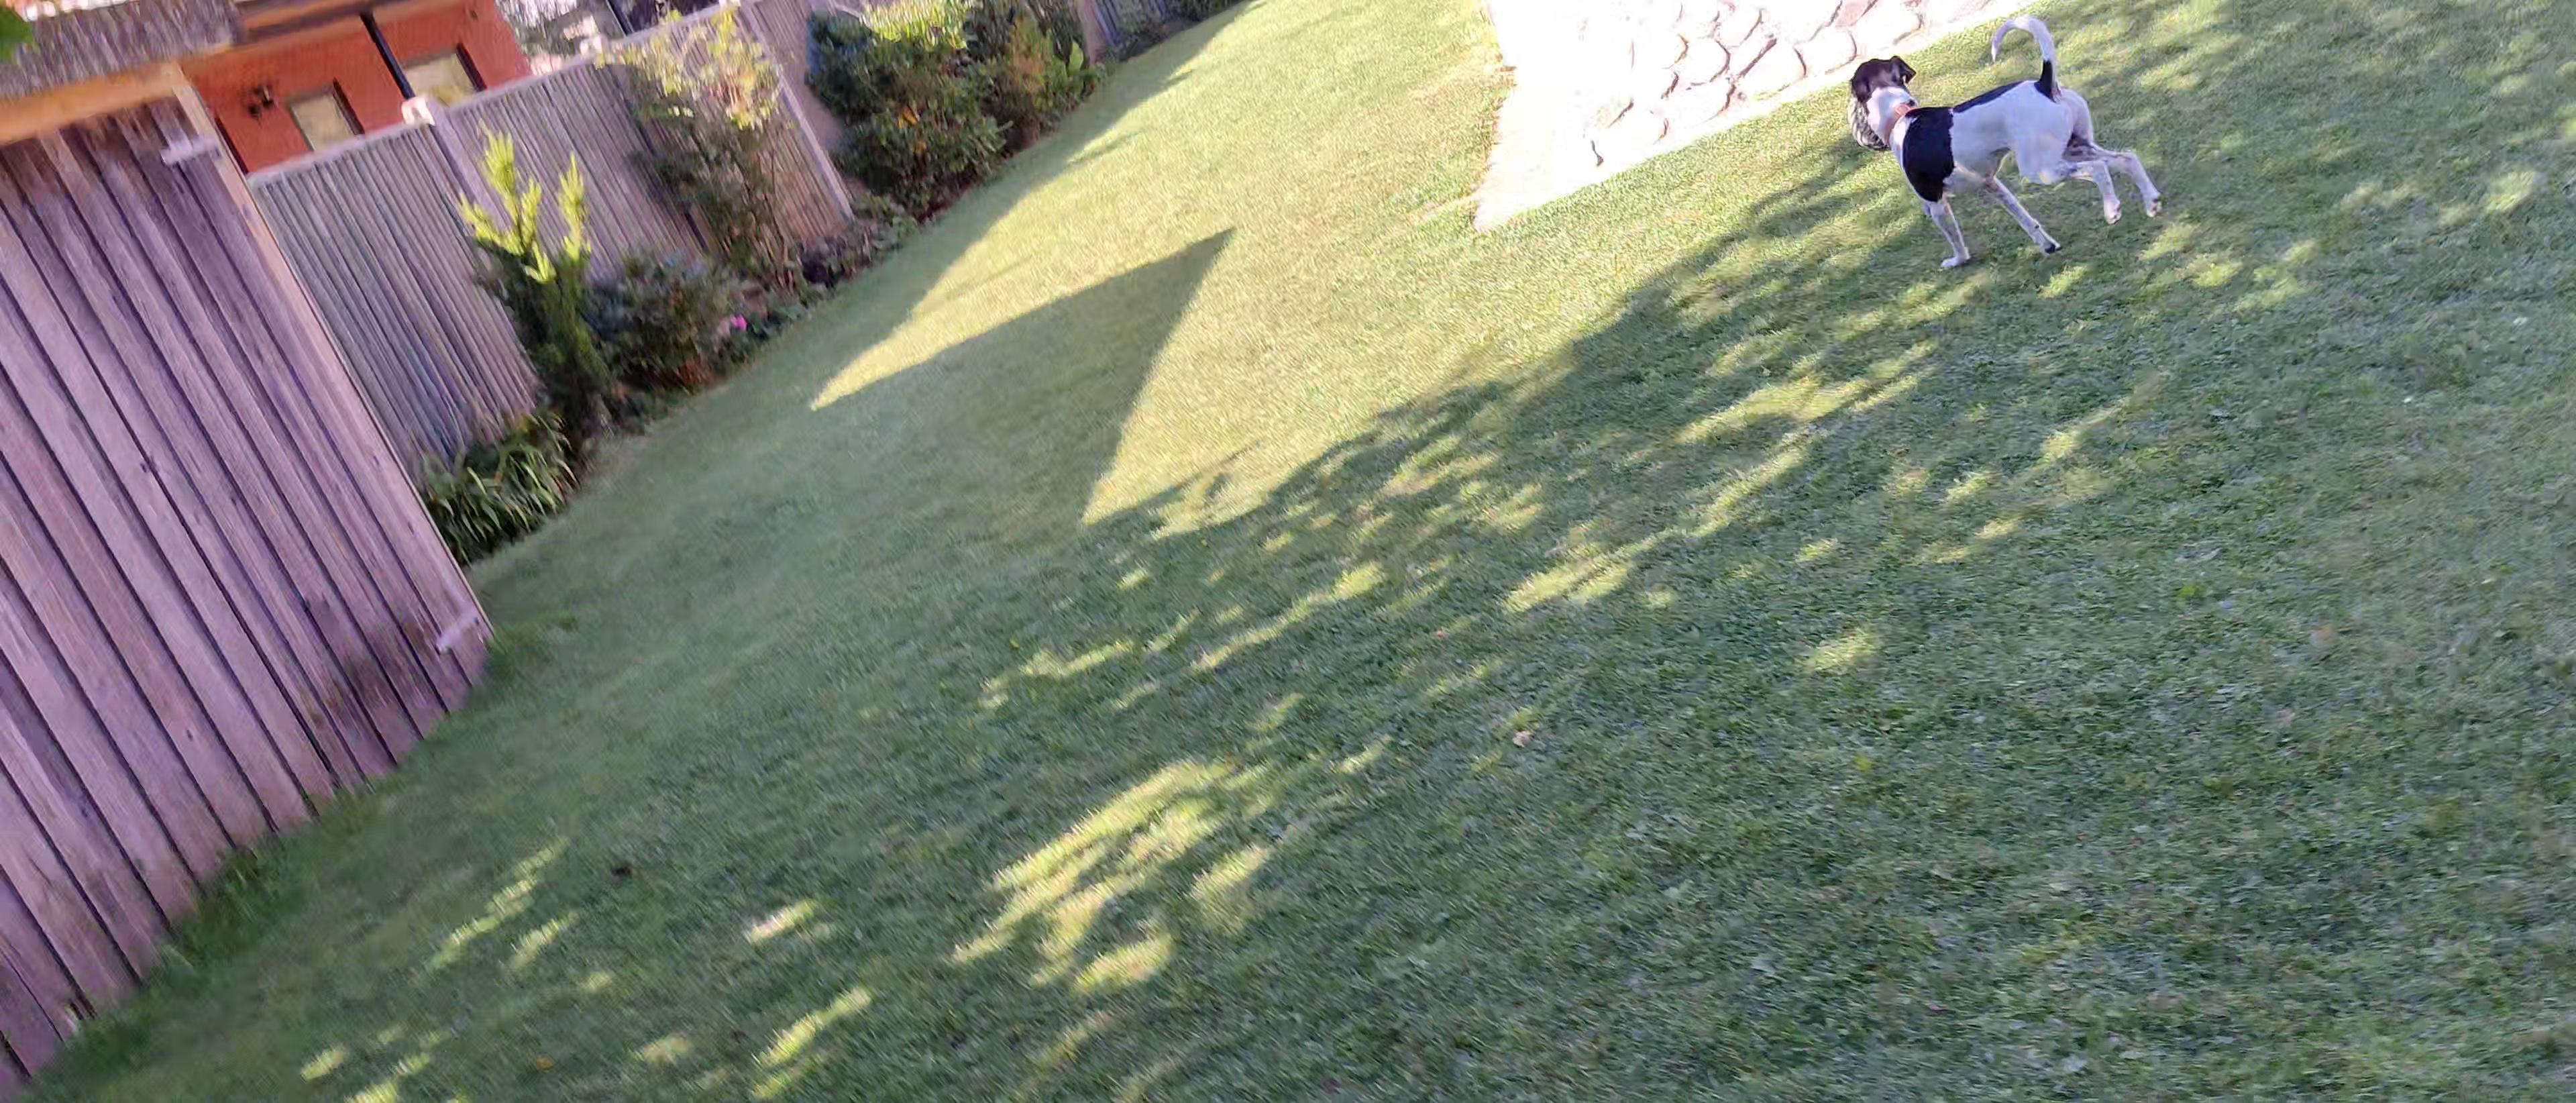Dog: (1833, 13, 2177, 271)
